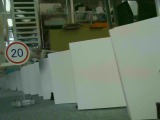speed_20: (5, 41, 30, 64)
